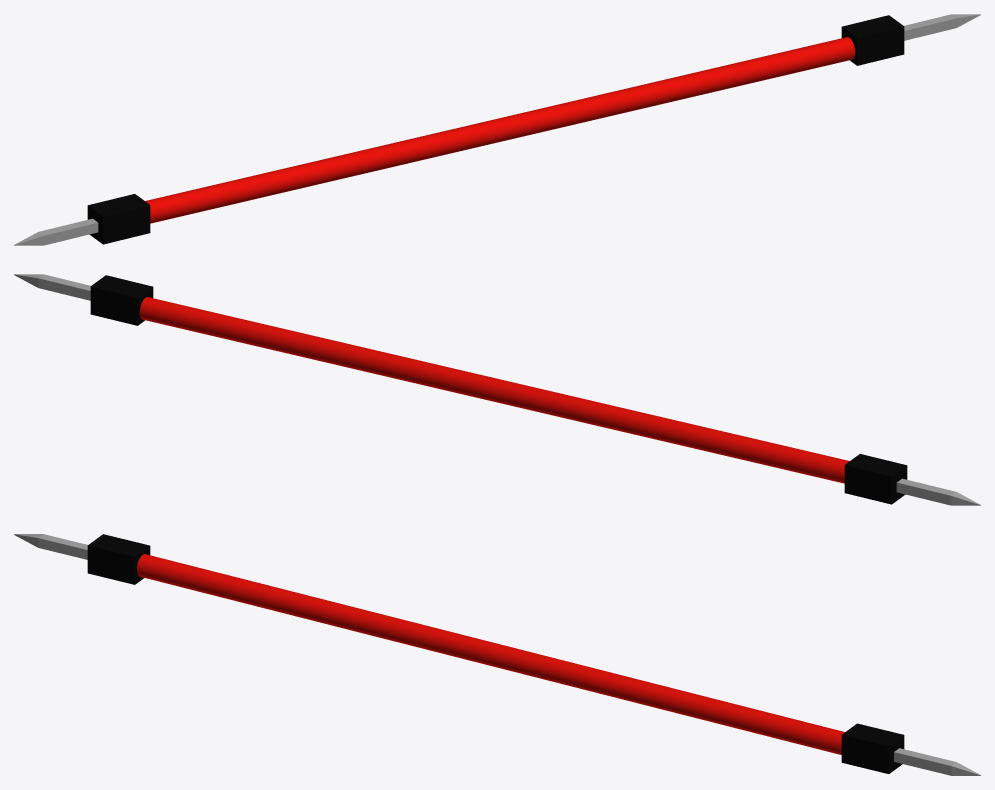
Rendered from Jumper.fbx.
3 renders of one model, top to bottom at view 1: azimuth 30°, elevation 25°; view 2: azimuth 150°, elevation 25°; view 3: azimuth 330°, elevation 25°, orthographic.
Parts seen in each view (by area): view 1: Cilindro, Cubo, Cubo.001, Cubo.003, Cubo.004; view 2: Cilindro, Cubo, Cubo.001, Cubo.003, Cubo.004; view 3: Cilindro, Cubo.001, Cubo, Cubo.004, Cubo.003.
Boxes of the visible parts, x1=… form: Cilindro: x1=145, y1=37, x2=855, y2=223; Cubo: x1=87, y1=194, x2=150, y2=244; Cubo.001: x1=841, y1=15, x2=904, y2=65; Cubo.003: x1=14, y1=218, x2=98, y2=245; Cubo.004: x1=904, y1=14, x2=980, y2=40; Cilindro: x1=139, y1=297, x2=849, y2=483; Cubo: x1=844, y1=454, x2=907, y2=504; Cubo.001: x1=90, y1=275, x2=153, y2=325; Cubo.003: x1=896, y1=478, x2=980, y2=505; Cubo.004: x1=14, y1=274, x2=90, y2=300; Cilindro: x1=137, y1=554, x2=844, y2=754; Cubo.001: x1=841, y1=723, x2=904, y2=773; Cubo: x1=87, y1=534, x2=150, y2=584; Cubo.004: x1=894, y1=748, x2=980, y2=775; Cubo.003: x1=14, y1=534, x2=87, y2=559.
Size of the model in its own units: 2953 by 97.29 by 81.74.
